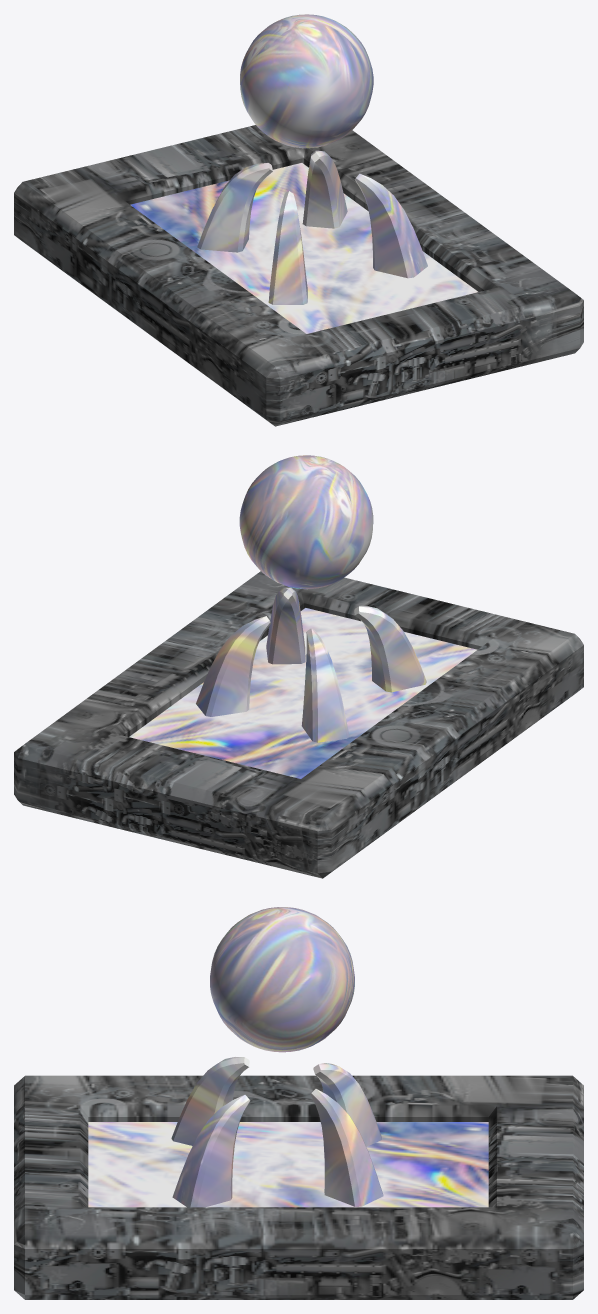
Rendered from ball.fbx.
The picture shows the model from 3 angles, top to bottom: view 1: azimuth 30°, elevation 25°; view 2: azimuth 150°, elevation 25°; view 3: azimuth 270°, elevation 25°; orthographic projection. The views are drawn at different scales.
Visible parts, largest first — view 1: polySurface5, pSphere1, polySurface2, polySurface4, polySurface1, polySurface3; view 2: polySurface5, pSphere1, polySurface3, polySurface4, polySurface1, polySurface2; view 3: polySurface5, pSphere1, polySurface2, polySurface3, polySurface1, polySurface4.
Boxes of the visible parts, x1,y1,x2,y2 form: polySurface5: (14, 125, 583, 426); pSphere1: (240, 14, 373, 148); polySurface2: (355, 173, 427, 278); polySurface4: (197, 163, 272, 252); polySurface1: (268, 191, 307, 304); polySurface3: (302, 150, 347, 228); polySurface5: (14, 571, 583, 878); pSphere1: (239, 455, 373, 589); polySurface3: (196, 616, 270, 716); polySurface4: (301, 628, 349, 742); polySurface1: (354, 606, 426, 692); polySurface2: (266, 587, 305, 664); polySurface5: (14, 1075, 583, 1299); pSphere1: (210, 907, 354, 1052); polySurface2: (172, 1095, 250, 1207); polySurface3: (310, 1089, 383, 1206); polySurface1: (171, 1057, 249, 1145); polySurface4: (313, 1063, 381, 1146).
Bounding box in the file's own units: 3.71 × 3.15 × 5.31.
